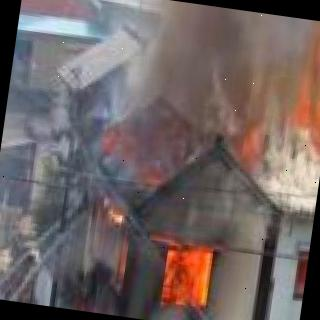fire: (71, 207, 278, 320), (266, 40, 320, 155), (290, 253, 308, 301)
